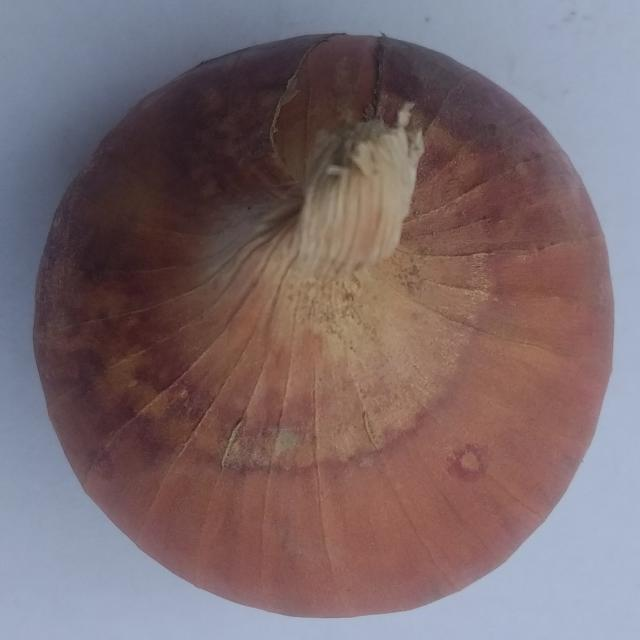onion: (32, 32, 616, 619)
